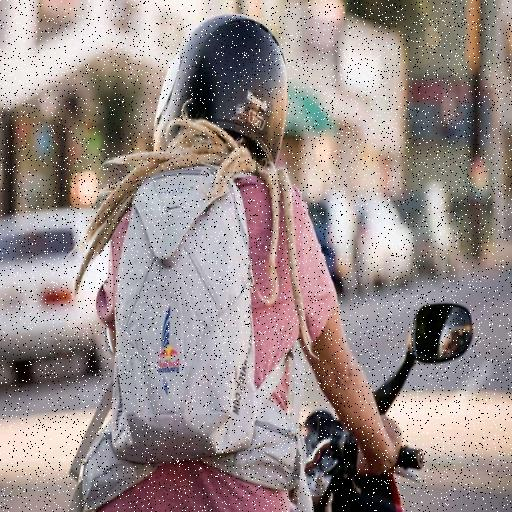Helmet: (151, 20, 287, 166)
Motor: (298, 309, 468, 512)
